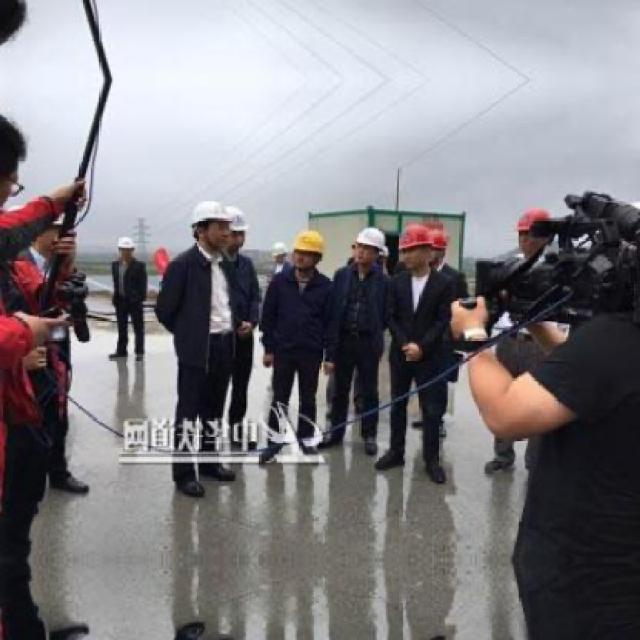con casco: (381, 189, 474, 296), (476, 182, 564, 280), (263, 230, 335, 340), (330, 185, 404, 288), (173, 195, 255, 287)
